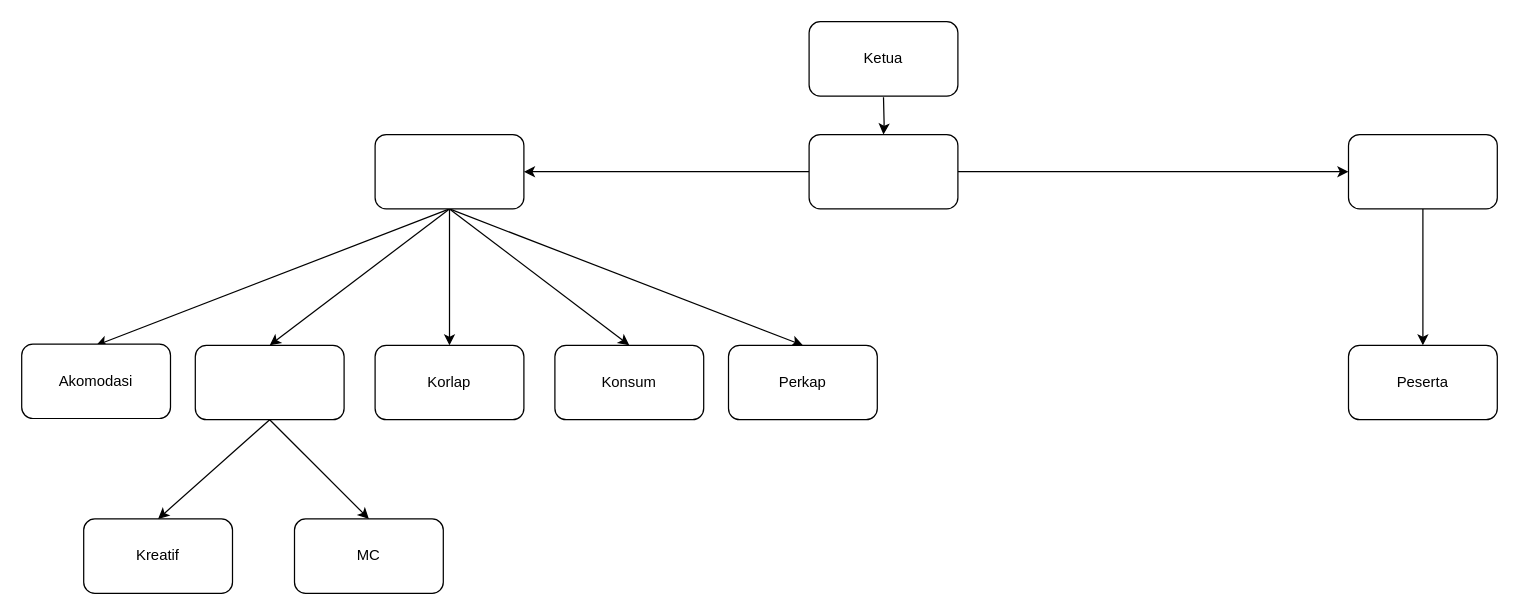
Some shapes in this 1519 by 615 pixel diagram are drawn without their labels. Each missing label, with the centre of its shape:
"Acara" goes at (x=269, y=382).
"Bendahara" goes at (x=883, y=171).
"Humas" goes at (x=1422, y=171).
"Sekretaris" goes at (x=449, y=171).
